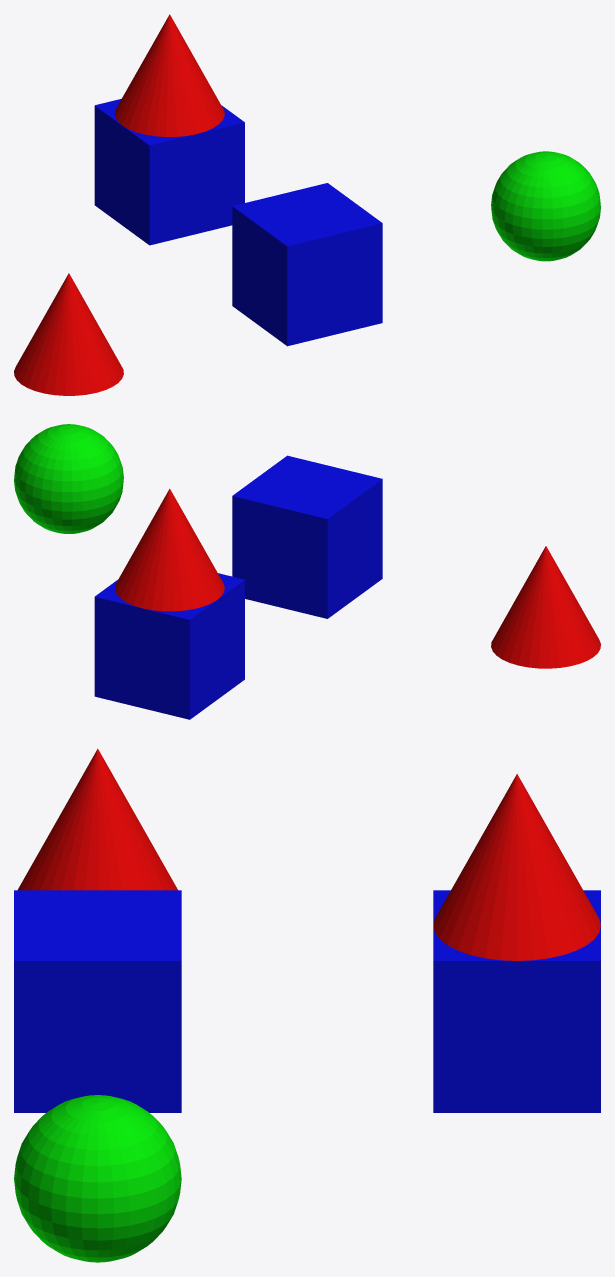
The model's file is TestKit.gltf.
3 views of the same model, one above another, from view 1: azimuth 30°, elevation 25°; view 2: azimuth 150°, elevation 25°; view 3: azimuth 270°, elevation 25° (orthographic). The views are drawn at different scales.
Visible parts, largest first — view 1: Cube, Cube001, Sphere, Cone, Cone001; view 2: Cube, Cube001, Sphere, Cone001, Cone; view 3: Cube, Cube001, Sphere, Cone001, Cone.
Part boxes in pixels (x1,y1,x2,y2): Cube: (232,183,382,346); Cube001: (94,99,244,245); Sphere: (491,151,600,261); Cone: (14,273,123,395); Cone001: (115,14,224,136); Cube: (232,455,382,618); Cube001: (94,573,244,719); Sphere: (14,424,123,533); Cone001: (115,488,224,611); Cone: (491,546,600,668); Cube: (14,890,181,1112); Cube001: (433,890,600,1112); Sphere: (14,1095,181,1262); Cone001: (433,774,600,960); Cone: (18,748,177,890).
Bounding box in the file's own units: 12 × 4 × 7.
